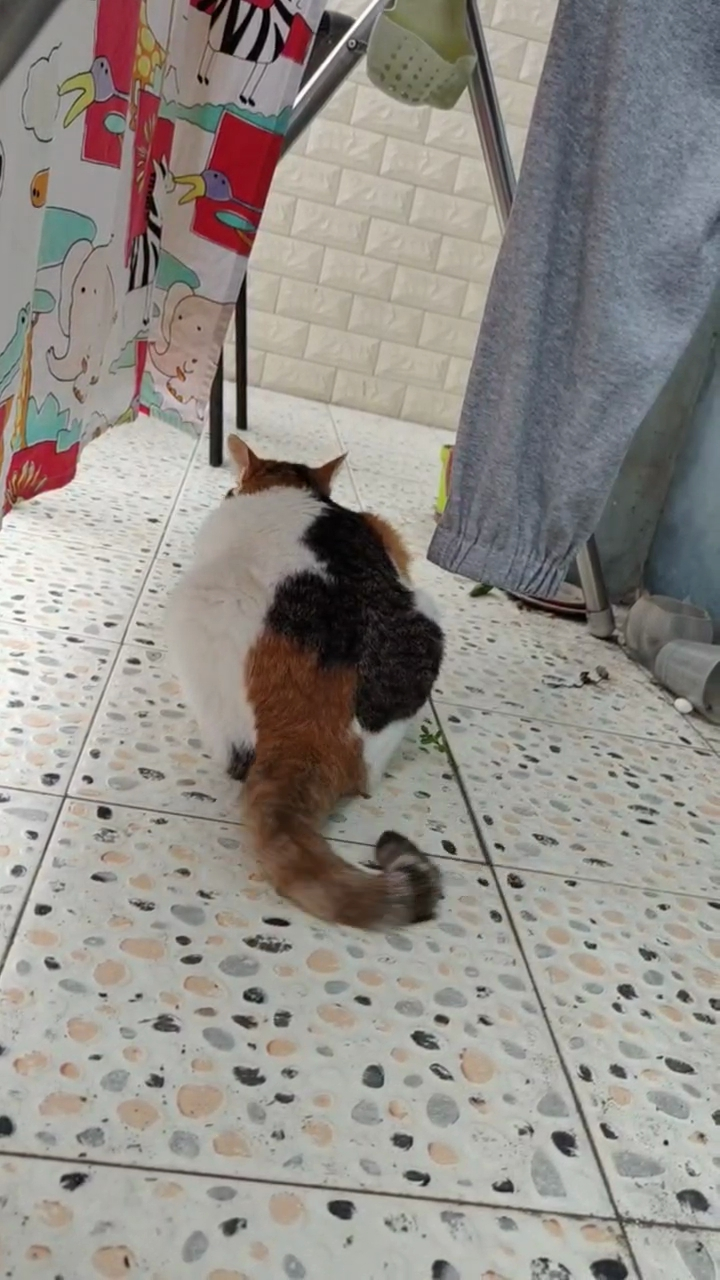猫: (207, 387, 484, 1029)
